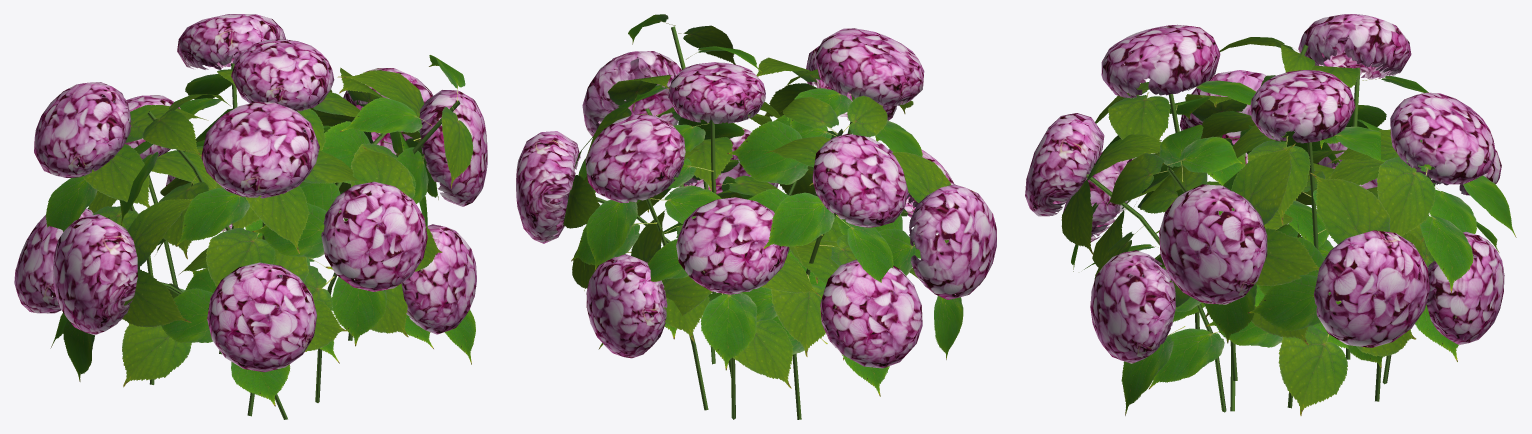
Rendered from NaturePlant02_3.FBX.
The picture shows the model from 3 angles, left to right: view 1: azimuth 30°, elevation 25°; view 2: azimuth 150°, elevation 25°; view 3: azimuth 270°, elevation 25°; orthographic projection. The views are drawn at different scales.
Visible parts, largest first — view 1: NaturePlant02_3; view 2: NaturePlant02_3; view 3: NaturePlant02_3.
Boxes of the visible parts, <box> form: NaturePlant02_3: <box>14,14,487,419</box>; NaturePlant02_3: <box>516,14,996,419</box>; NaturePlant02_3: <box>1025,14,1516,415</box>.
Bounding box in the file's own units: 0.7653 × 0.593 × 0.7486.
